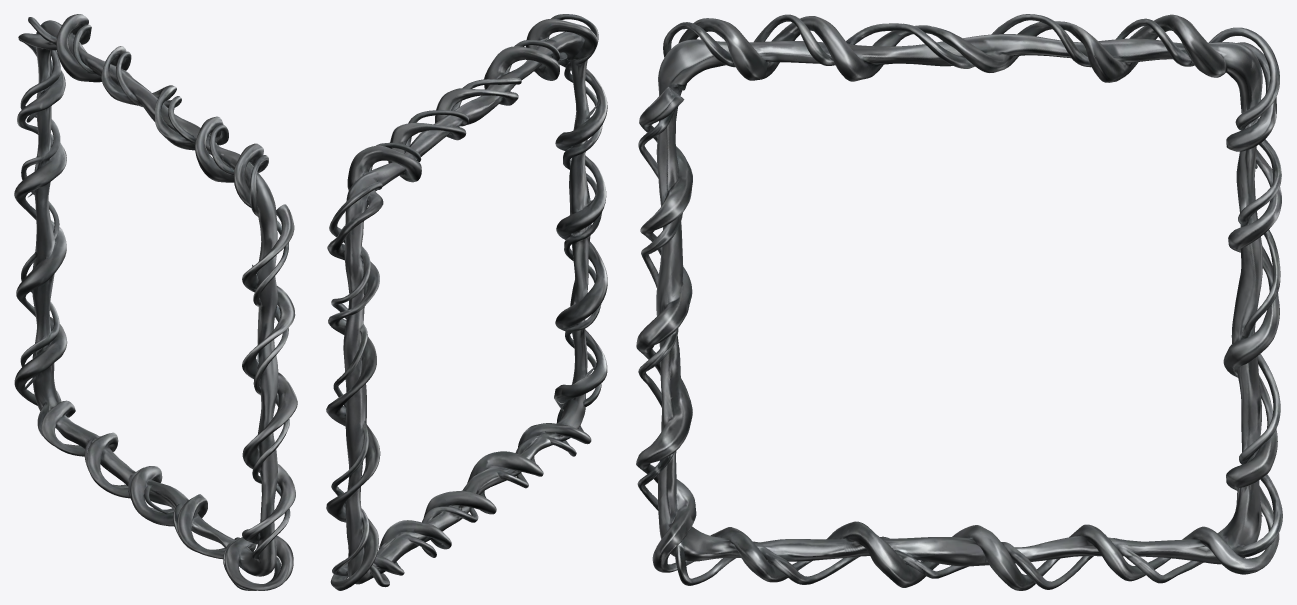
Rendered from outro-frame.glb.
3 views of the same model, side by side, from view 1: azimuth 30°, elevation 25°; view 2: azimuth 150°, elevation 25°; view 3: azimuth 270°, elevation 25° (orthographic). The views are drawn at different scales.
Parts seen in each view (by area): view 1: tripo_node_93e0625a-a55f-43f9-9ce9-0ddf2b00cd91; view 2: tripo_node_93e0625a-a55f-43f9-9ce9-0ddf2b00cd91; view 3: tripo_node_93e0625a-a55f-43f9-9ce9-0ddf2b00cd91.
Part boxes in pixels (x1,y1,x2,y2): tripo_node_93e0625a-a55f-43f9-9ce9-0ddf2b00cd91: (14, 14, 297, 590); tripo_node_93e0625a-a55f-43f9-9ce9-0ddf2b00cd91: (326, 14, 607, 590); tripo_node_93e0625a-a55f-43f9-9ce9-0ddf2b00cd91: (636, 14, 1282, 590).
Bounding box in the file's own units: 0.1102 × 0.9531 × 0.9794.
Materials: 1 (1 with a texture image).
